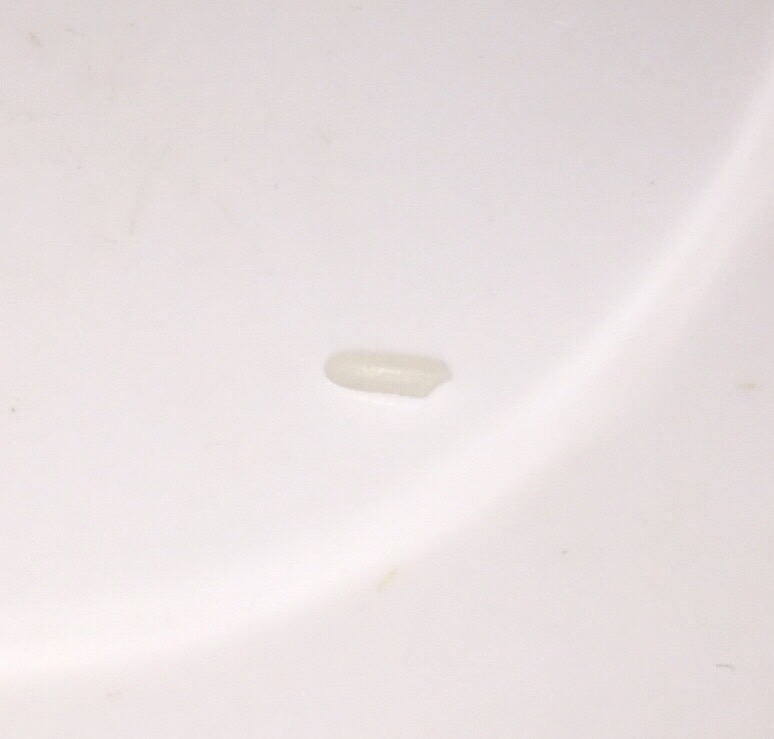Gao Ngoc Troi: (323, 331, 460, 405)
